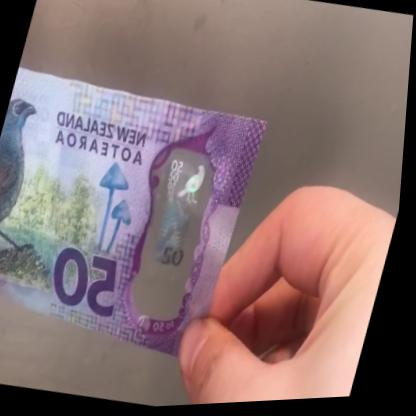50B: (137, 152, 214, 310)
